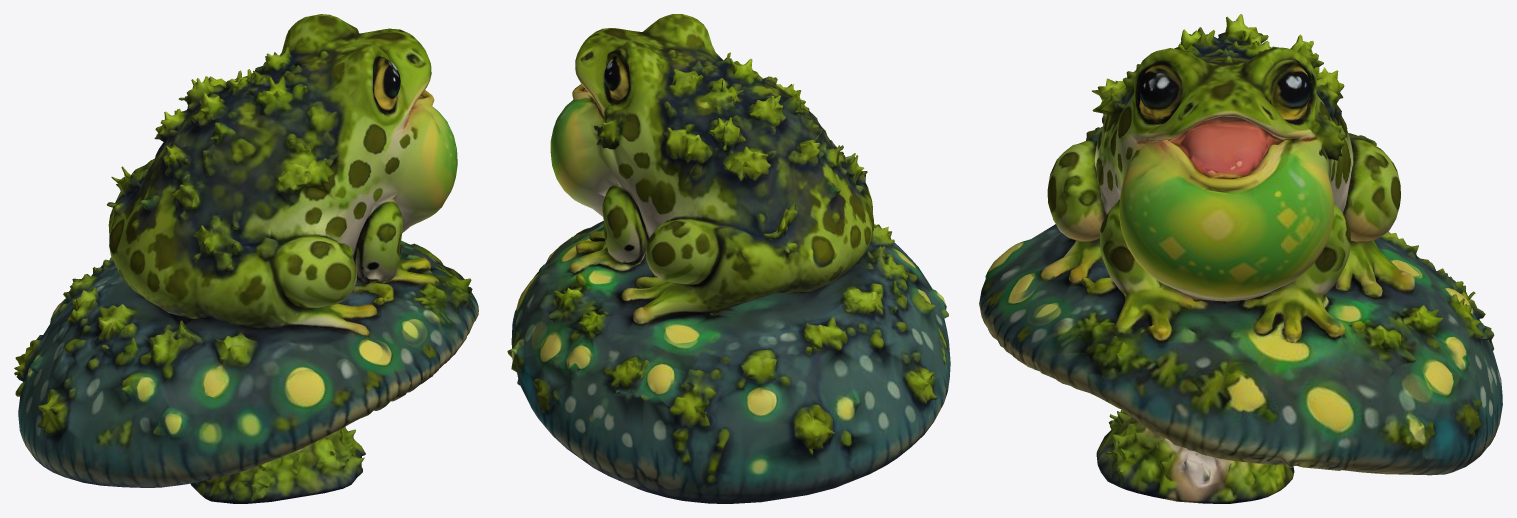
File: n4_glowcroak.9ac27805.glb
3 views of the same model, side by side, from view 1: azimuth 30°, elevation 25°; view 2: azimuth 150°, elevation 25°; view 3: azimuth 270°, elevation 25° (orthographic). The views are drawn at different scales.
Visible parts, largest first — view 1: tripo_node_54bab4bc-19cd-41d0-b0c2-81fc63142c93; view 2: tripo_node_54bab4bc-19cd-41d0-b0c2-81fc63142c93; view 3: tripo_node_54bab4bc-19cd-41d0-b0c2-81fc63142c93.
Boxes of the visible parts, x1,y1,x2,y2 form: tripo_node_54bab4bc-19cd-41d0-b0c2-81fc63142c93: (14,14,478,503); tripo_node_54bab4bc-19cd-41d0-b0c2-81fc63142c93: (507,14,950,503); tripo_node_54bab4bc-19cd-41d0-b0c2-81fc63142c93: (979,14,1502,503).
Size of the model in its own units: 0.9988 by 0.957 by 0.951.
Materials: 1 (1 with a texture image).
